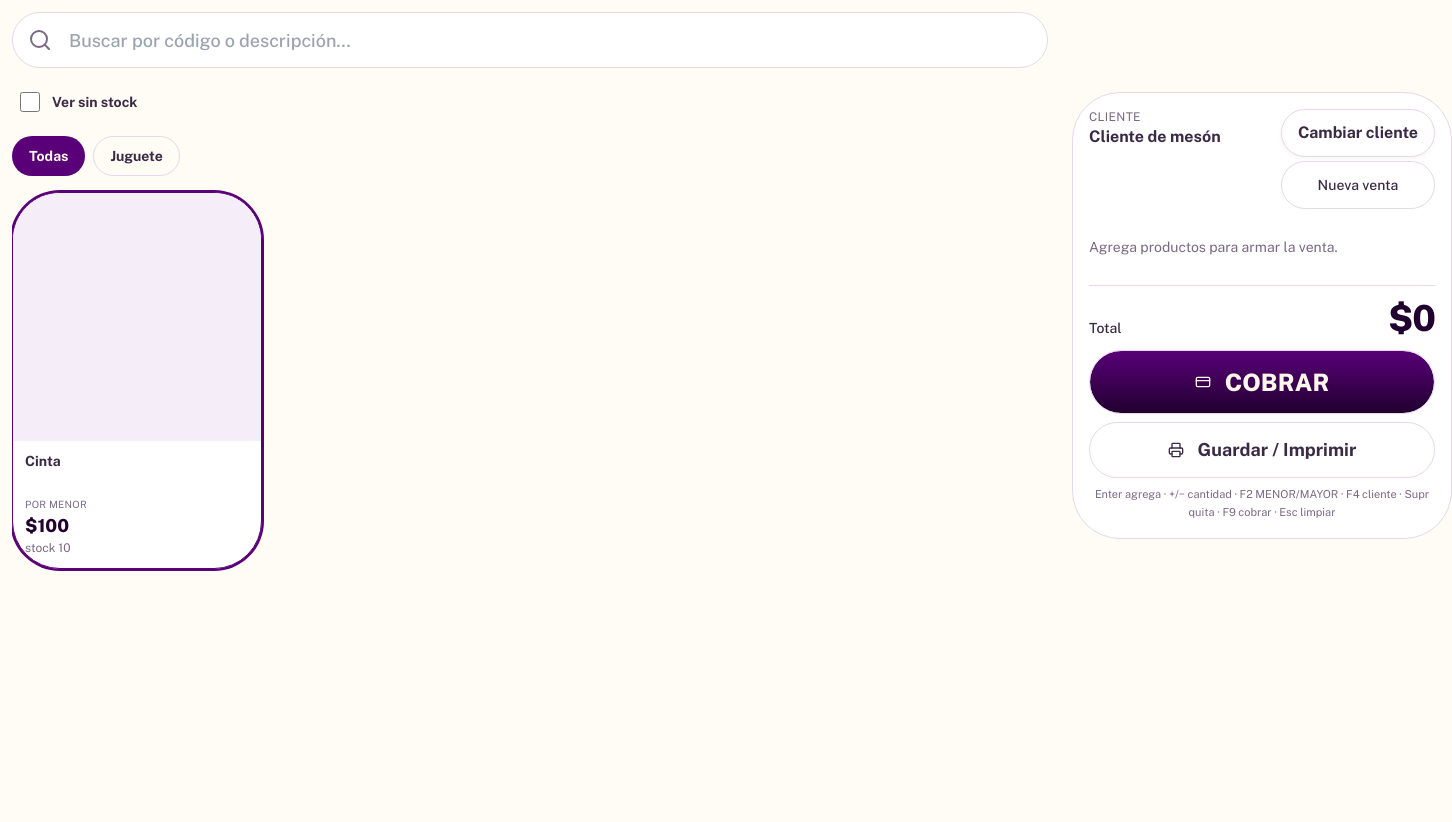
POS pos2 — bugs de QA visual (teclado real) › agregar un producto ya presente con la misma modalidad suma +1 (sin duplicar)
The image size is (1452, 822).
What coordinates should you click on to do the following:
click the button with test id "pos-producto-QA-001"
I would click on:
 (137, 380)
Its box is [12,192,262,569].
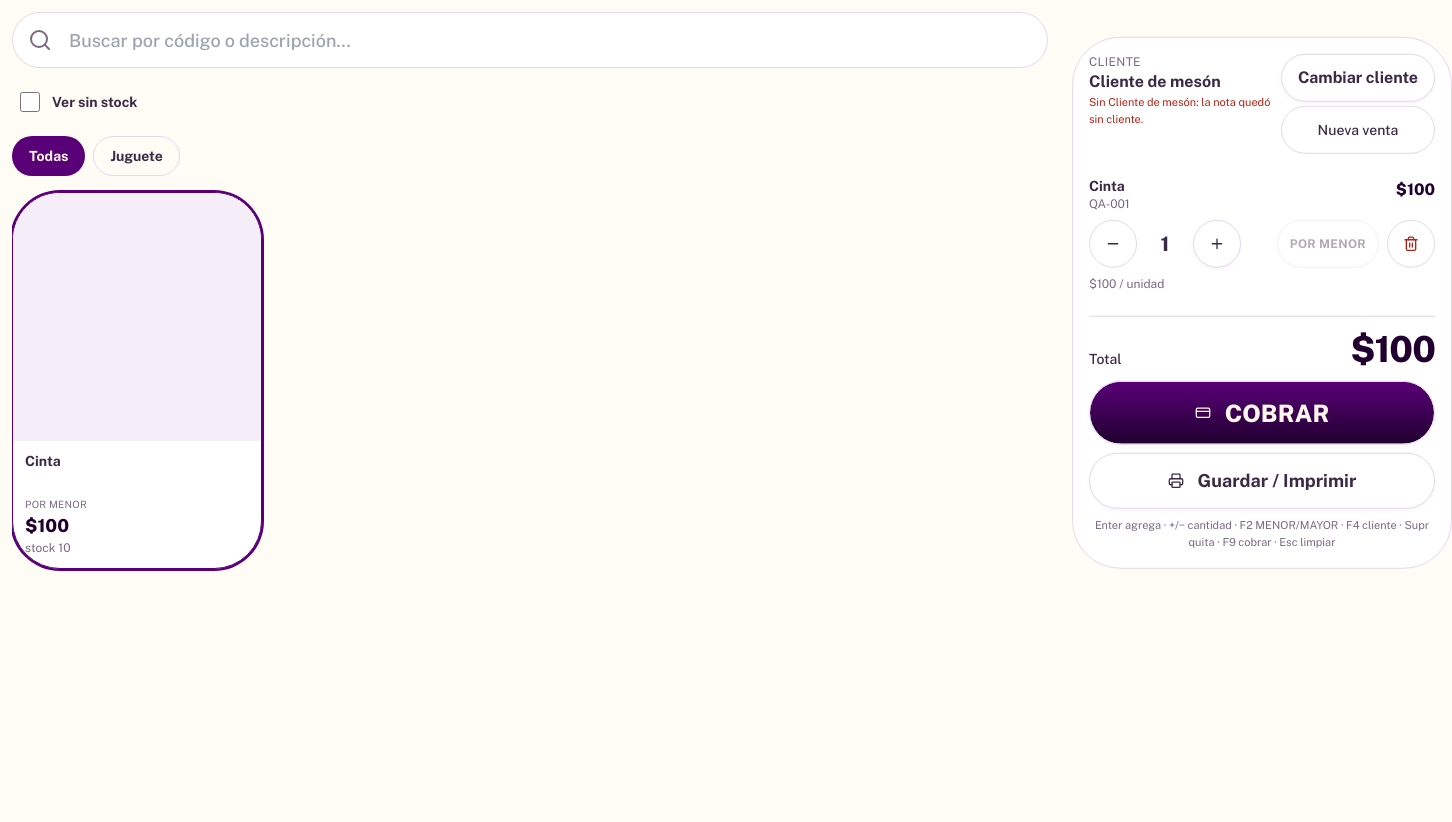
Now the text with test id "pos-cantidad-QA-001" reads "1", box [1161,231,1169,255]
What coordinates should you click on to do the following:
click the button with test id "pos-producto-QA-001"
I would click on:
 (137, 380)
Its box is [12,192,262,569].
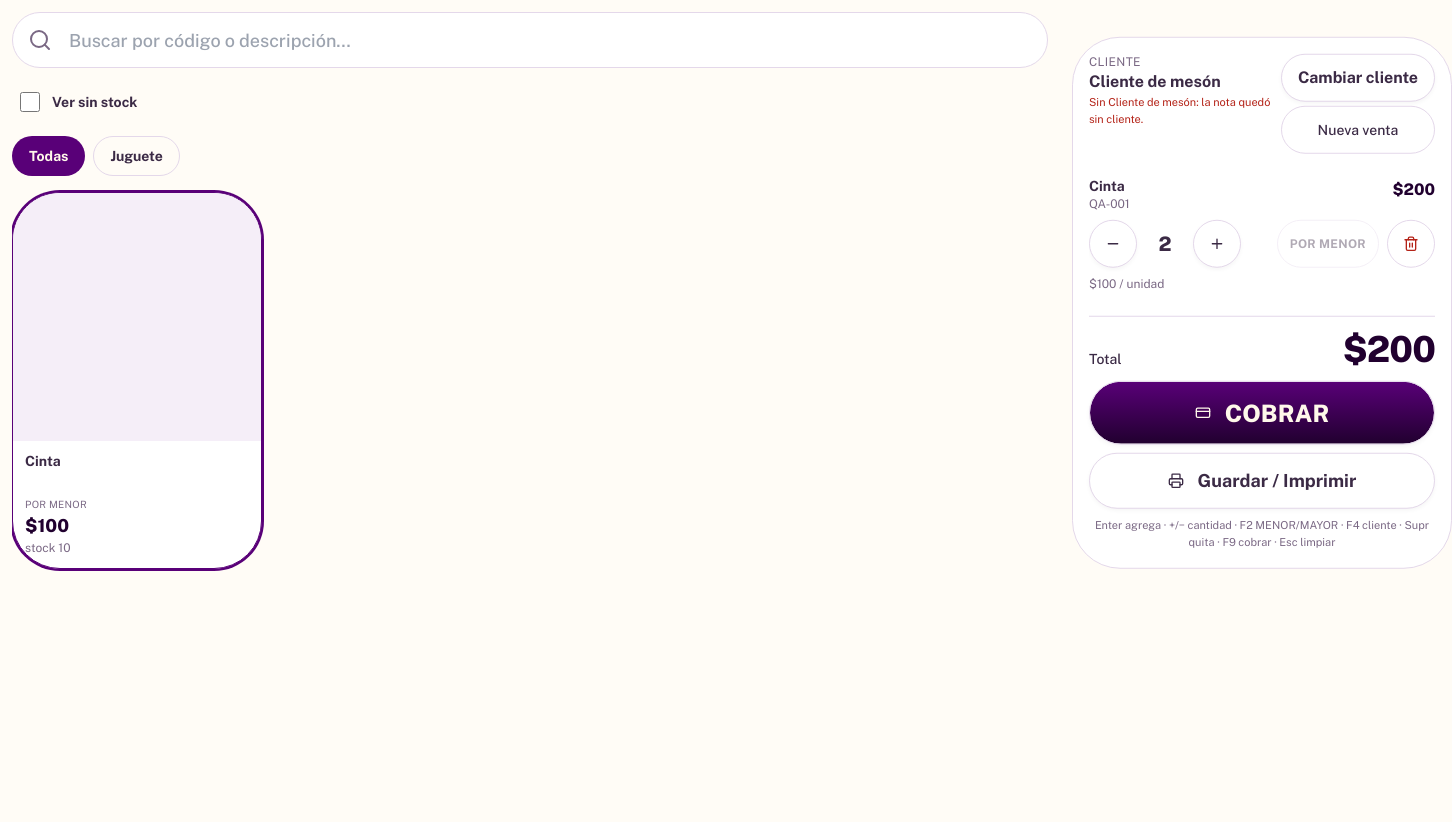
Now the number of list items with test id "pos-linea-QA-001" is 1, box [1089,166,1435,303]
Now the text with test id "pos-cantidad-QA-001" reads "2", box [1158,231,1172,255]
